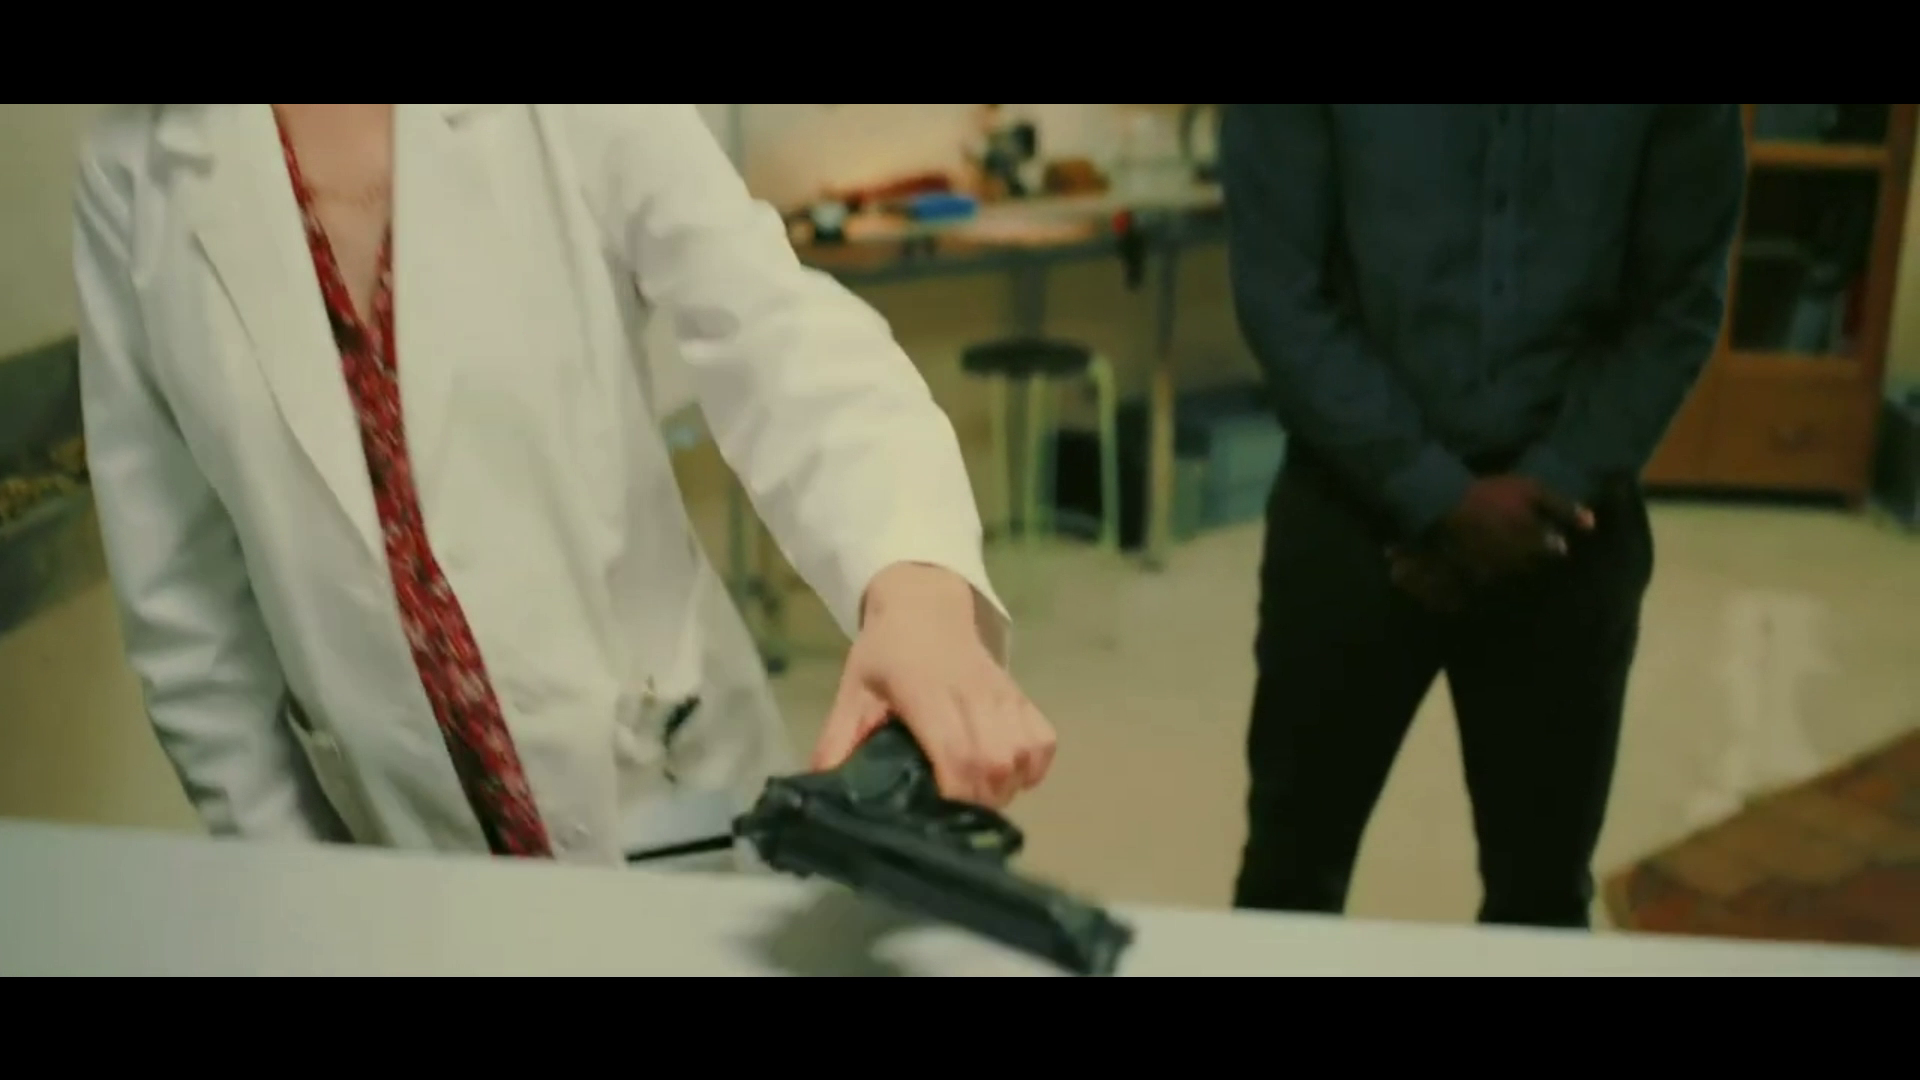SIG P226: (731, 716, 1135, 971)
